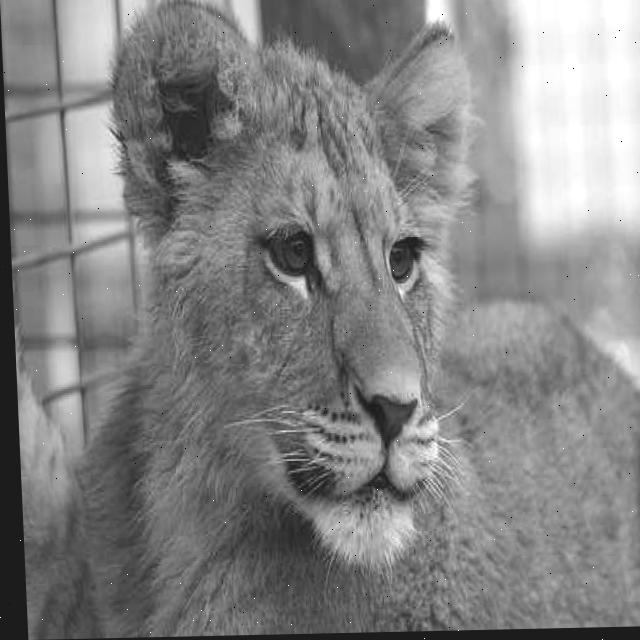Lion: (102, 0, 607, 630)
